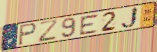2: (99, 11, 119, 33)
9: (60, 17, 77, 39)
E: (80, 13, 100, 36)
J: (119, 6, 139, 30)
P: (18, 22, 38, 46)
Z: (38, 19, 60, 44)
